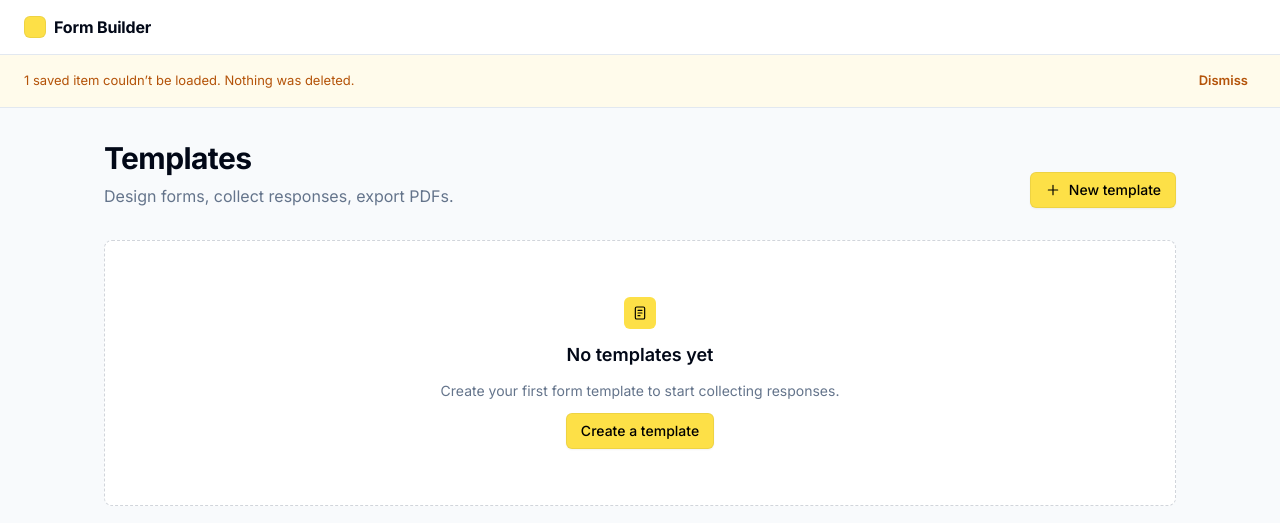
Scenario: shows a dismissible notice when stored data cannot be loaded
Expected: the message shows "1 saved item couldn’t be loaded", 24,72 -> 221,88
Click the button "Dismiss" at {"x": 1223, "y": 81}, box 1191,67 -> 1256,94
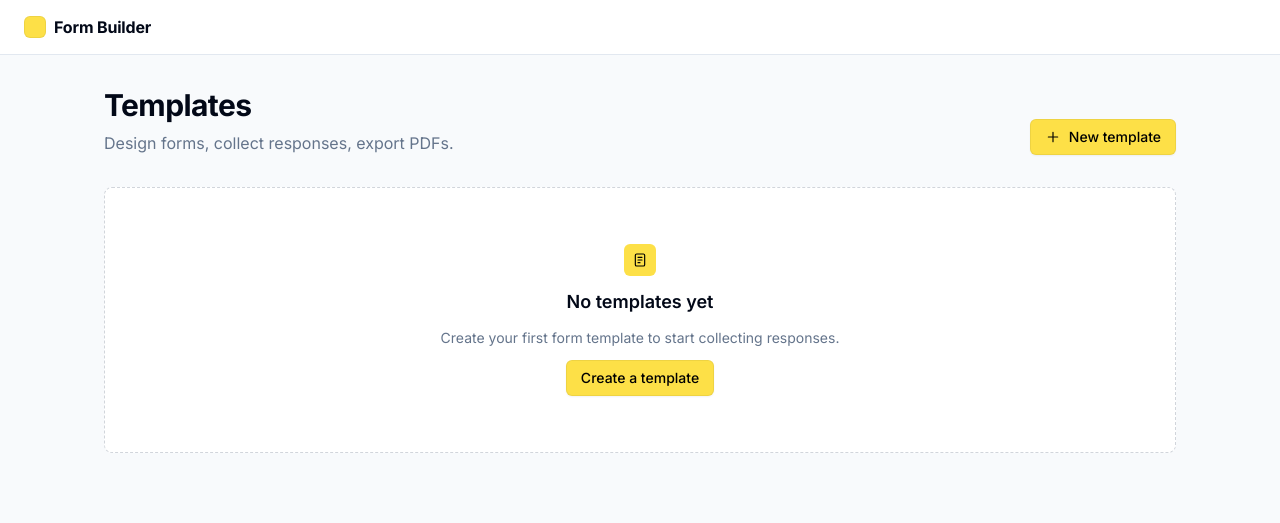
Now the message "1 saved item couldn’t be loaded. Nothing was deleted. Dismiss" is gone
